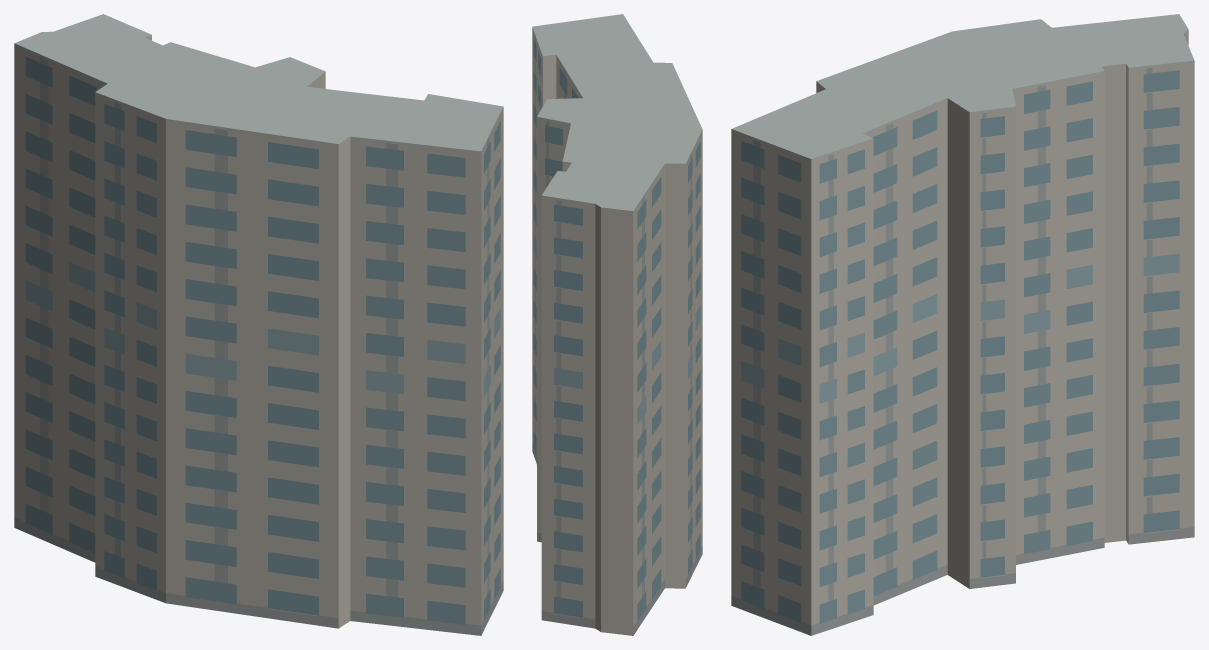
File: residential-2bd52262-4921-43c3-b9b3-3381d970a06c.glb
3 views of the same model, side by side, from view 1: azimuth 30°, elevation 25°; view 2: azimuth 150°, elevation 25°; view 3: azimuth 270°, elevation 25° (orthographic). The views are drawn at different scales.
Visible parts, largest first — view 1: residential-2bd52262-4921-43c3-b9b3-3381d970a06c.tmp; view 2: residential-2bd52262-4921-43c3-b9b3-3381d970a06c.tmp; view 3: residential-2bd52262-4921-43c3-b9b3-3381d970a06c.tmp.
Part boxes in pixels (x1,y1,x2,y2): residential-2bd52262-4921-43c3-b9b3-3381d970a06c.tmp: (14, 14, 503, 635); residential-2bd52262-4921-43c3-b9b3-3381d970a06c.tmp: (532, 14, 702, 635); residential-2bd52262-4921-43c3-b9b3-3381d970a06c.tmp: (731, 14, 1194, 635).
Size of the model in its own units: 30.03 by 46 by 40.5.
